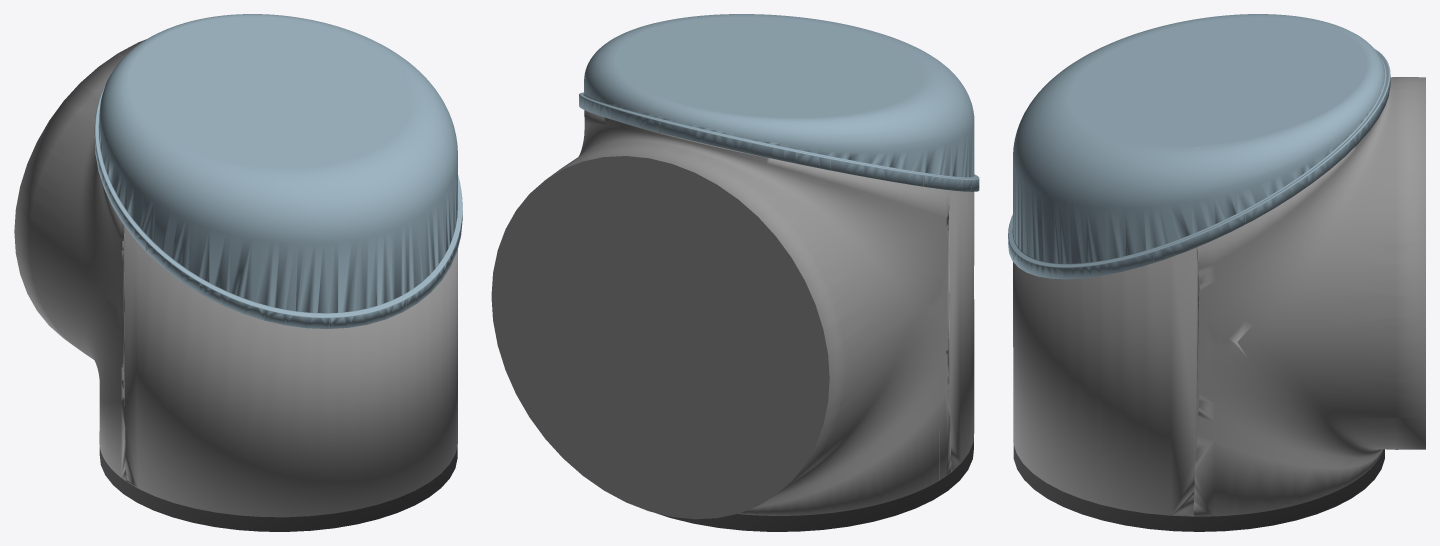
File: shoulder.dae
3 renders of one model, left to right at view 1: azimuth 30°, elevation 25°; view 2: azimuth 150°, elevation 25°; view 3: azimuth 270°, elevation 25°, orthographic. The views are drawn at different scales.
Parts seen in each view (by area): view 1: Actor0, Actor1; view 2: Actor0, Actor1; view 3: Actor0, Actor1.
Boxes of the visible parts, <box> form: Actor0: <box>14,39,457,531</box>; Actor1: <box>94,14,462,328</box>; Actor0: <box>491,110,974,531</box>; Actor1: <box>579,14,979,191</box>; Actor0: <box>1013,77,1425,531</box>; Actor1: <box>1008,14,1390,279</box>.
Bounding box in the file's own units: 0.119 × 0.13 × 0.1337.
